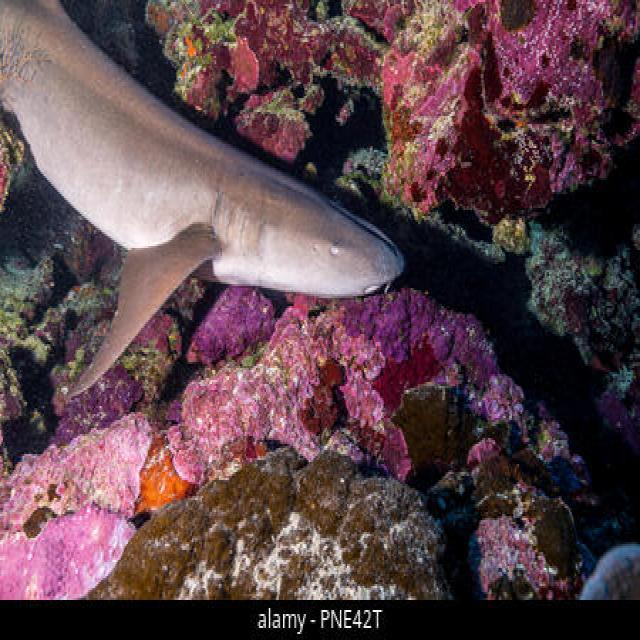Shark: (0, 0, 420, 402)
